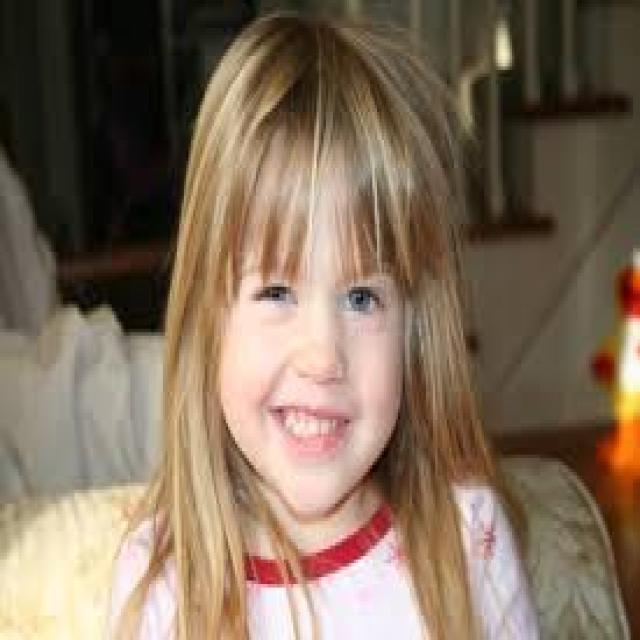stroke_face: (202, 65, 460, 559)
